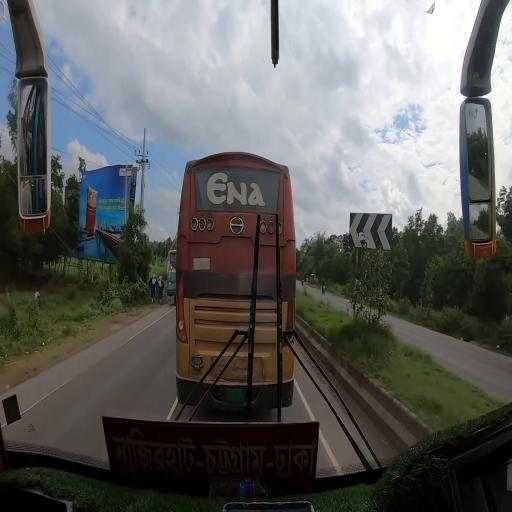bus: (179, 150, 296, 407), (167, 249, 179, 306)
motorbike: (322, 284, 327, 294), (302, 279, 305, 285)
